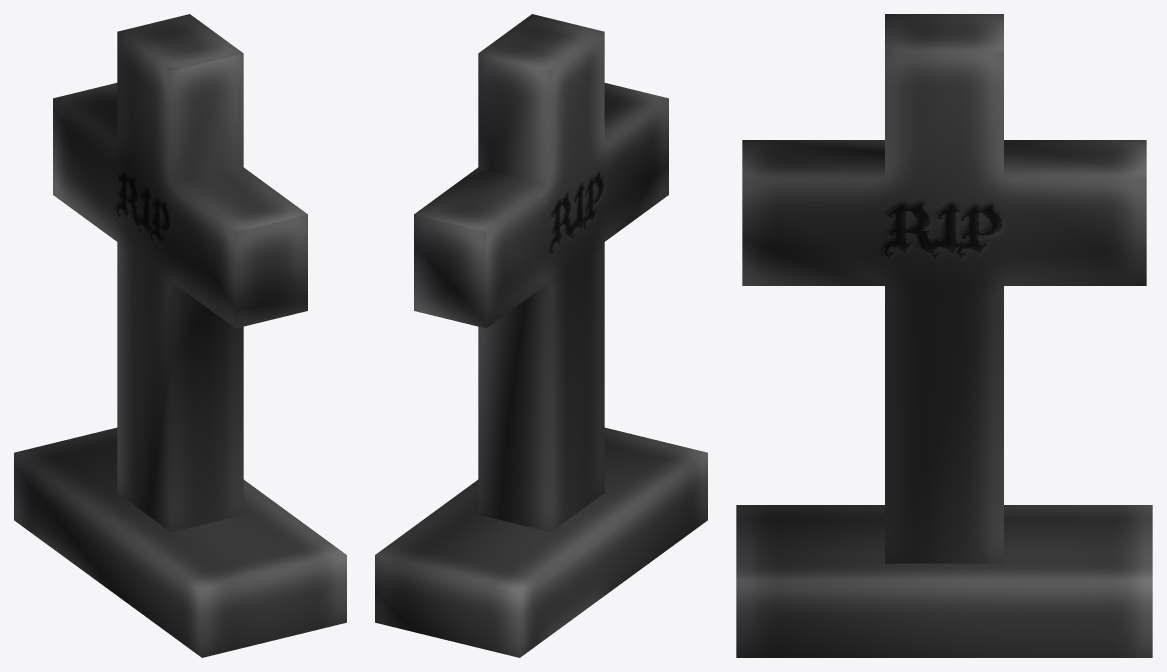
File: tombstone3.fbx
3 renders of one model, left to right at view 1: azimuth 30°, elevation 25°; view 2: azimuth 150°, elevation 25°; view 3: azimuth 270°, elevation 25°, orthographic. The views are drawn at different scales.
Visible parts, largest first — view 1: Cube; view 2: Cube; view 3: Cube.
Part boxes in pixels (left/top/right/bottom): Cube: left=14, top=14, right=346, bottom=657; Cube: left=375, top=14, right=707, bottom=657; Cube: left=736, top=14, right=1152, bottom=657.
Size of the model in its own units: 88.89 by 310 by 200.
